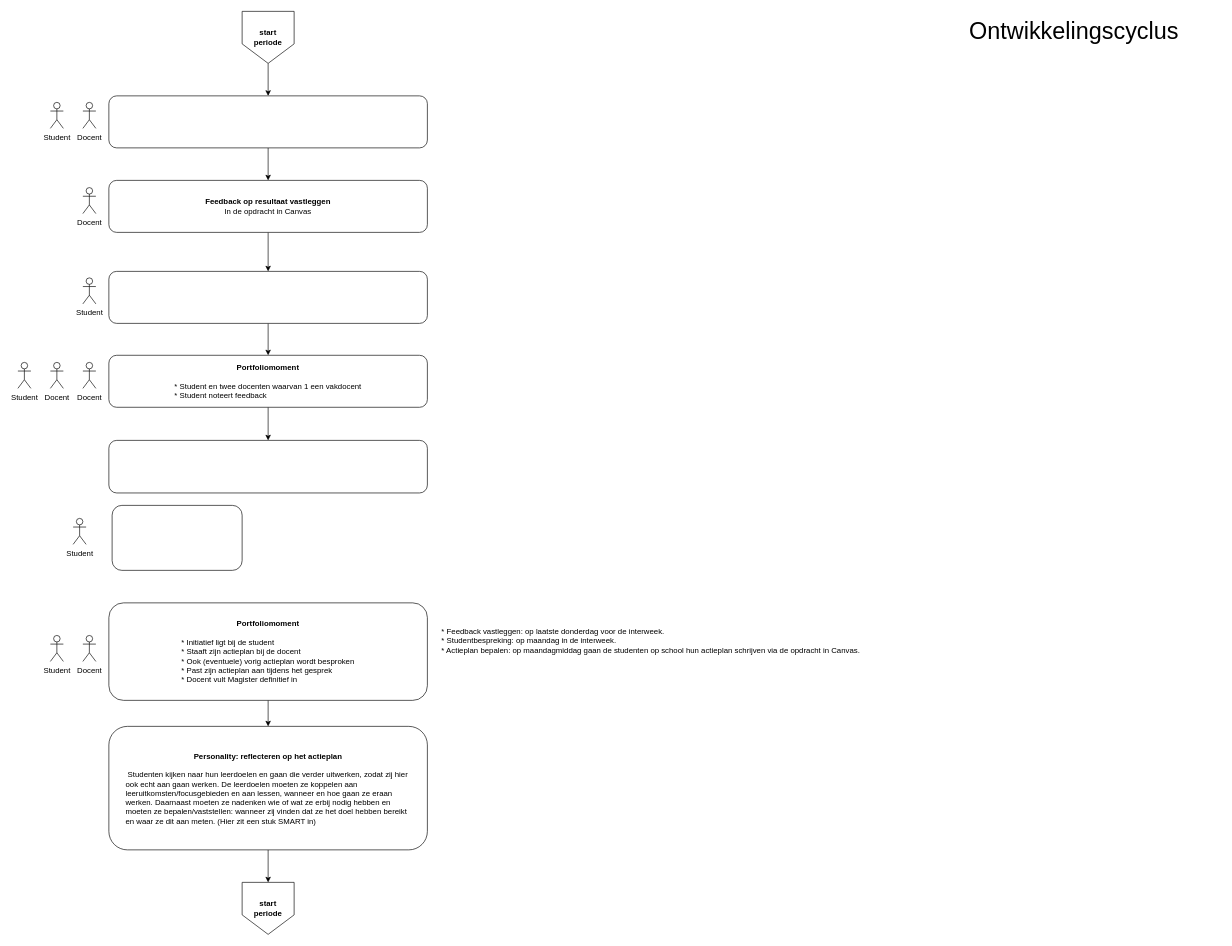
Some shapes in this 1232 by 946 pixel diagram are drawn without their labels. Here are the shapes that lost their labels. From the top down, the box of each, then its label:
(108, 95, 427, 148): Leeractiviteiten Docent houdt voortgang bij en geeft feedback wanneer nodig
(108, 271, 427, 323): Bewijs verzamelen in PortFlow
(108, 440, 427, 493): Studentbespreking aangetoonde leeruitkomsten in PortFlow Output: Studieadvies
(111, 505, 242, 570): Nieuw Actieplan bepalen Werk + Feedback = Bewijslast Opdracht in Canvas
